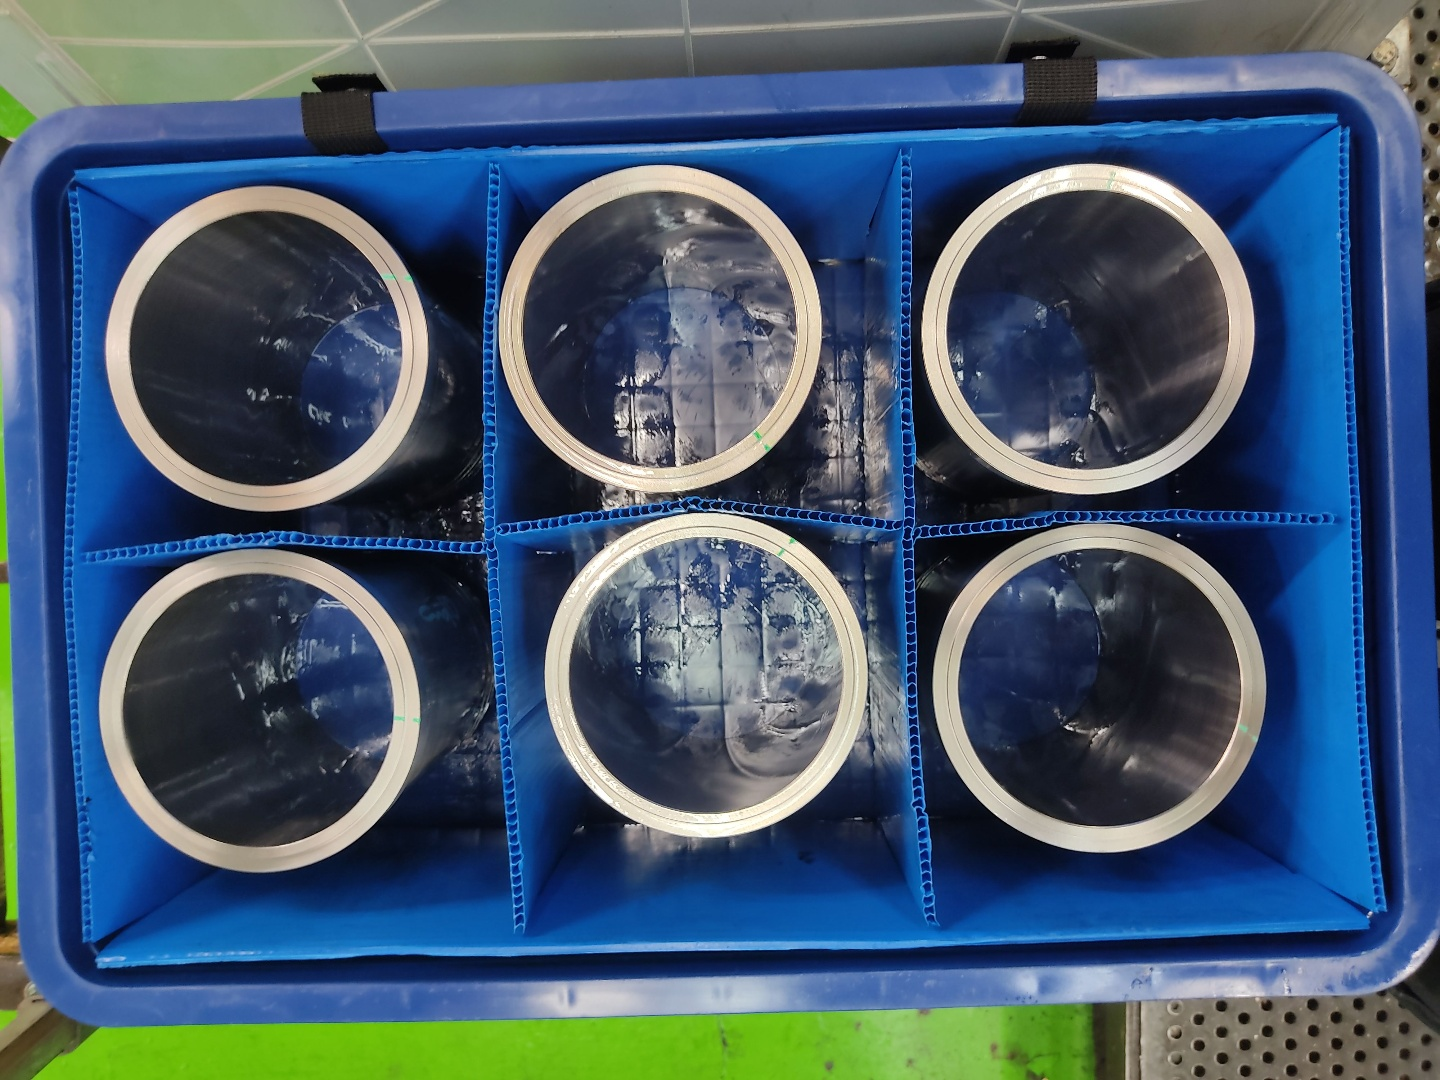cylinder: (927, 517, 1271, 860), (920, 161, 1257, 503), (93, 546, 427, 879), (101, 182, 432, 518), (541, 509, 873, 843), (495, 161, 824, 496)
